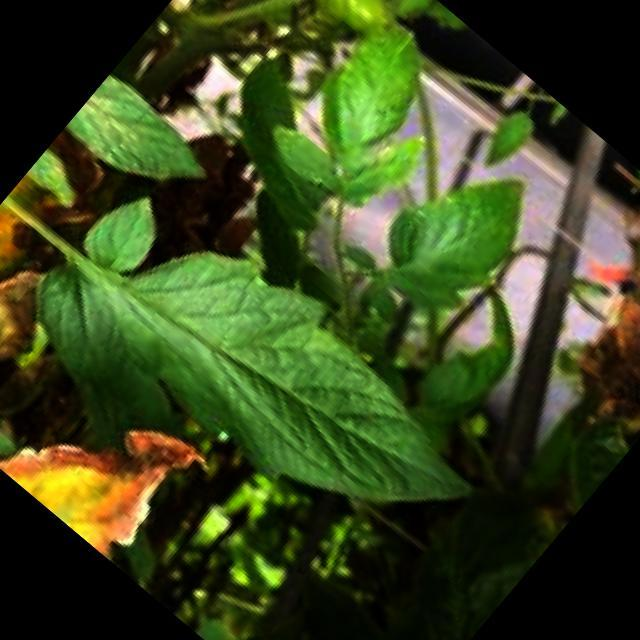Tomato healthy leaf: (34, 197, 464, 503)
